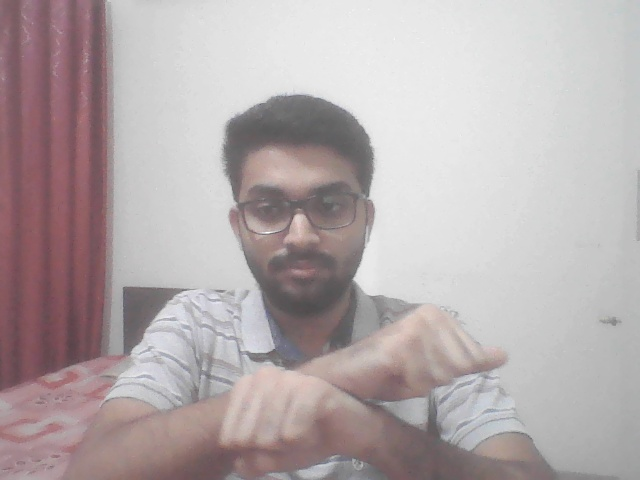work: (196, 293, 527, 473)
